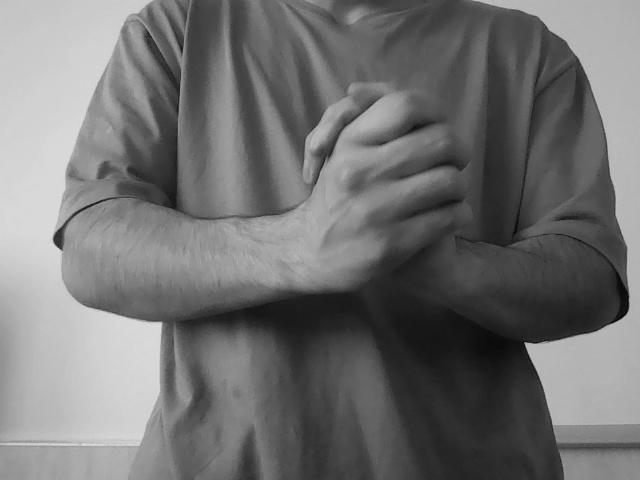friend: (306, 104, 456, 253)
